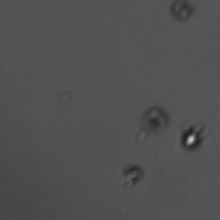Dead Cell: (135, 104, 170, 139), (119, 163, 146, 191), (167, 1, 199, 22)
Living Cell: (178, 120, 210, 152)
